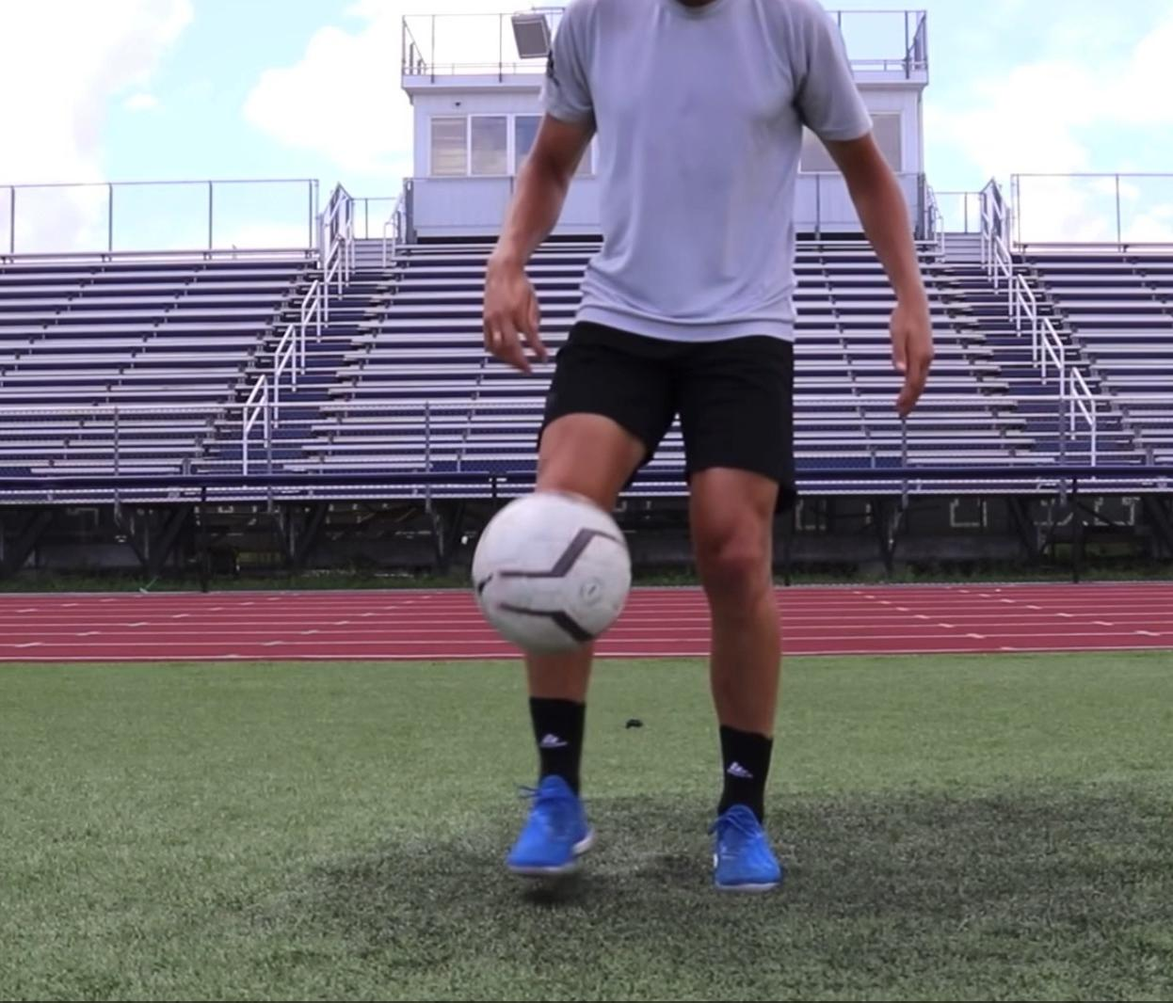ball: (473, 491, 630, 643)
foot: (501, 775, 596, 883), (703, 795, 787, 894)
person: (481, 0, 933, 893)
